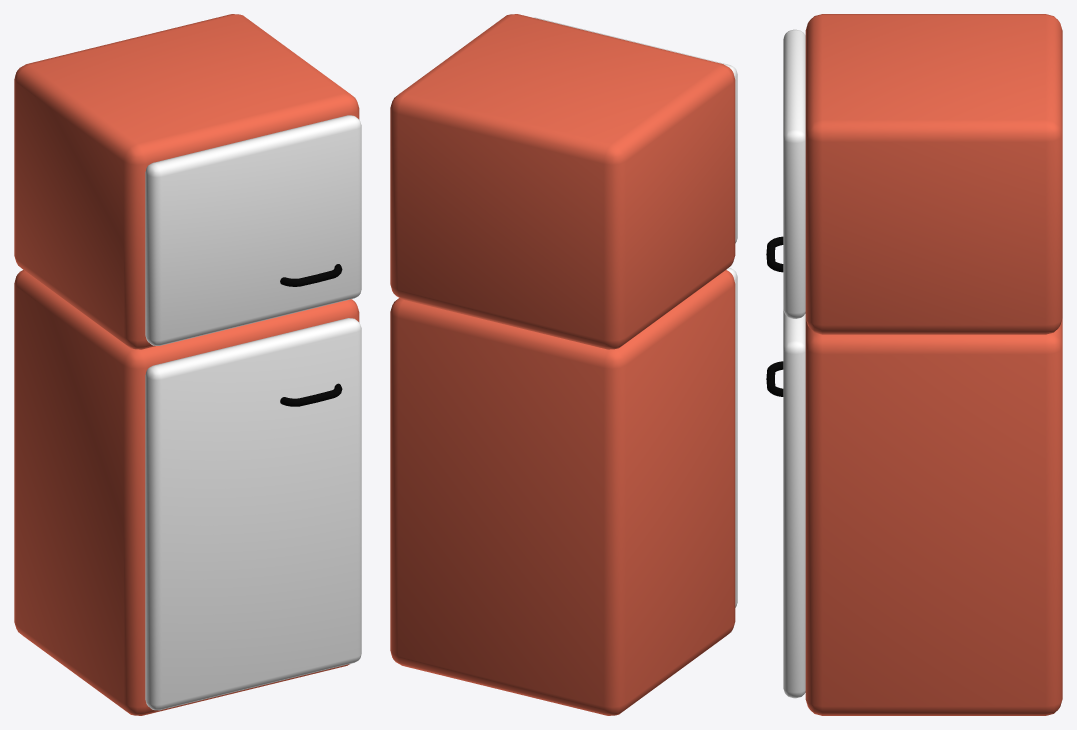
File: refrigerator.glb
3 views of the same model, side by side, from view 1: azimuth 30°, elevation 25°; view 2: azimuth 150°, elevation 25°; view 3: azimuth 270°, elevation 25° (orthographic). The views are drawn at different scales.
Parts seen in each view (by area): view 1: bottom_door.001, top.001, bottom.003, top_door.001; view 2: bottom.003, top.001, bottom_door.001, top_door.001; view 3: bottom.003, top.001, bottom_door.001, top_door.001.
Boxes of the visible parts, <box> form: bottom_door.001: <box>145,318,361,710</box>; top.001: <box>14,14,359,349</box>; bottom.003: <box>14,270,359,715</box>; top_door.001: <box>145,115,361,345</box>; bottom.003: <box>390,270,735,715</box>; top.001: <box>390,14,735,349</box>; bottom_door.001: <box>726,267,737,607</box>; top_door.001: <box>533,17,737,243</box>; bottom.003: <box>805,318,1062,715</box>; top.001: <box>805,14,1062,334</box>; bottom_door.001: <box>766,310,805,698</box>; top_door.001: <box>766,29,805,318</box>.
Size of the model in its own units: 0.5913 by 1.38 by 0.6243.
1 material, 1 textured.
